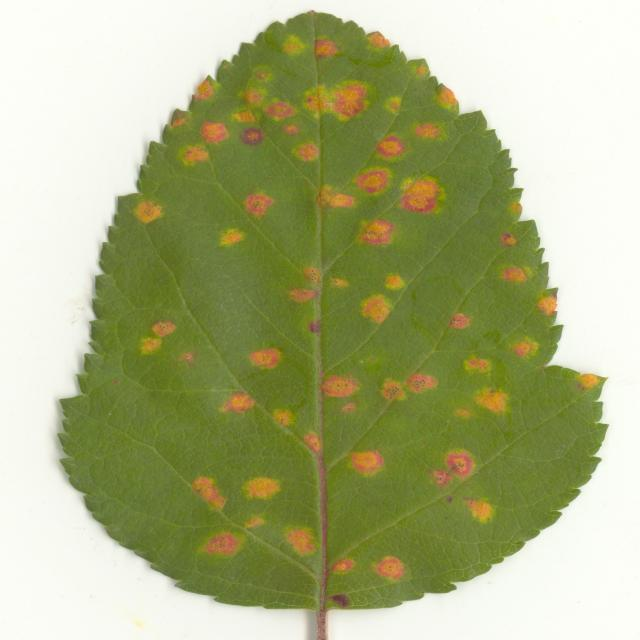Gymnosporangium_Rusts: (56, 9, 610, 636)
